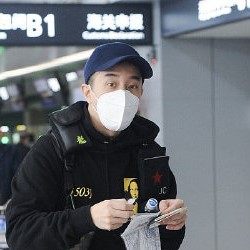mask: (91, 86, 143, 131)
